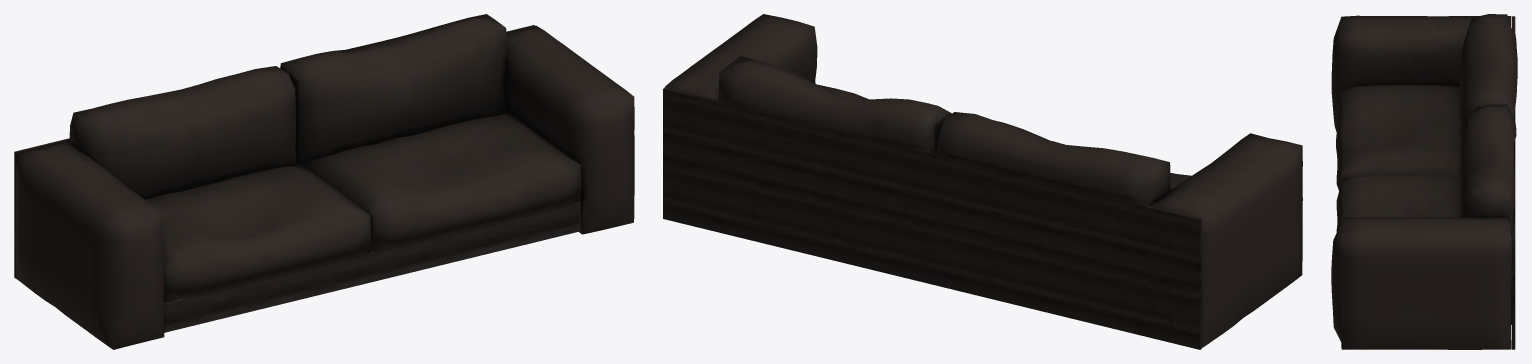
File: sofa_lowpoly.glb
3 views of the same model, side by side, from view 1: azimuth 30°, elevation 25°; view 2: azimuth 150°, elevation 25°; view 3: azimuth 270°, elevation 25° (orthographic). The views are drawn at different scales.
Parts seen in each view (by area): view 1: Object_4; view 2: Object_4; view 3: Object_4.
Part boxes in pixels (x1=…): Object_4: x1=14, y1=14, x2=634, y2=349; Object_4: x1=663, y1=14, x2=1302, y2=349; Object_4: x1=1331, y1=14, x2=1517, y2=349.
Size of the model in its own units: 2.4 by 0.693 by 0.8298.
1 material, 1 textured.
